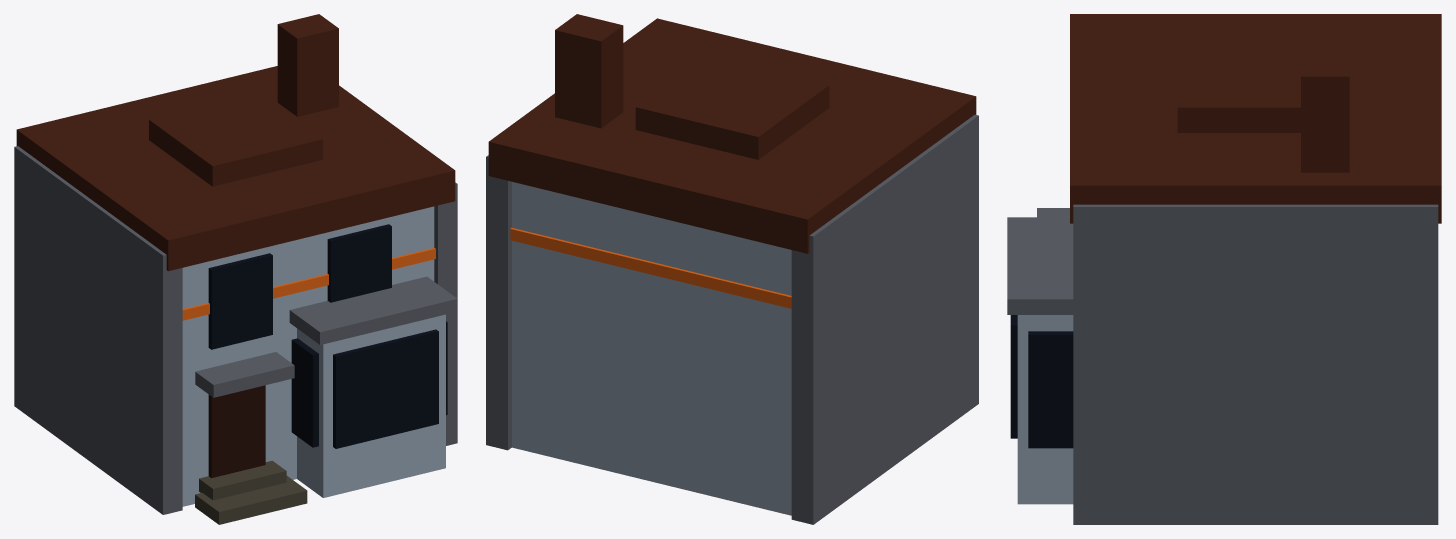
The model's file is house2.obj.
3 views of the same model, side by side, from view 1: azimuth 30°, elevation 25°; view 2: azimuth 150°, elevation 25°; view 3: azimuth 270°, elevation 25° (orthographic). The views are drawn at different scales.
Visible parts, largest first — view 1: parapet, party-walls, body, bay-glazing, bay, upper-windows, bay-cap, chimney, door, stoop, door-hood, window-light; view 2: body, parapet, party-walls, chimney, window-light; view 3: party-walls, parapet, bay-cap, bay-glazing, chimney, bay.
Part boxes in pixels (x1,y1,x2,y2): parapet: (16, 66, 455, 271); party-walls: (14, 146, 457, 514); body: (182, 206, 434, 506); bay-glazing: (291, 321, 447, 448); bay: (297, 314, 445, 497); upper-windows: (208, 224, 391, 349); bay-cap: (289, 276, 457, 344); chimney: (277, 14, 338, 116); door: (208, 385, 265, 478); stoop: (195, 460, 307, 524); door-hood: (195, 352, 294, 397); window-light: (182, 247, 435, 320); body: (512, 182, 791, 515); parapet: (488, 18, 976, 253); party-walls: (486, 114, 978, 524); chimney: (555, 14, 623, 128); window-light: (510, 228, 791, 308); party-walls: (1073, 204, 1438, 524); parapet: (1070, 14, 1441, 223); bay-cap: (1007, 217, 1073, 314); bay-glazing: (1010, 315, 1073, 448); chimney: (1301, 51, 1349, 172); bay: (1017, 315, 1073, 504).
Bounding box in the file's own units: 2.4 × 2.75 × 2.5.
